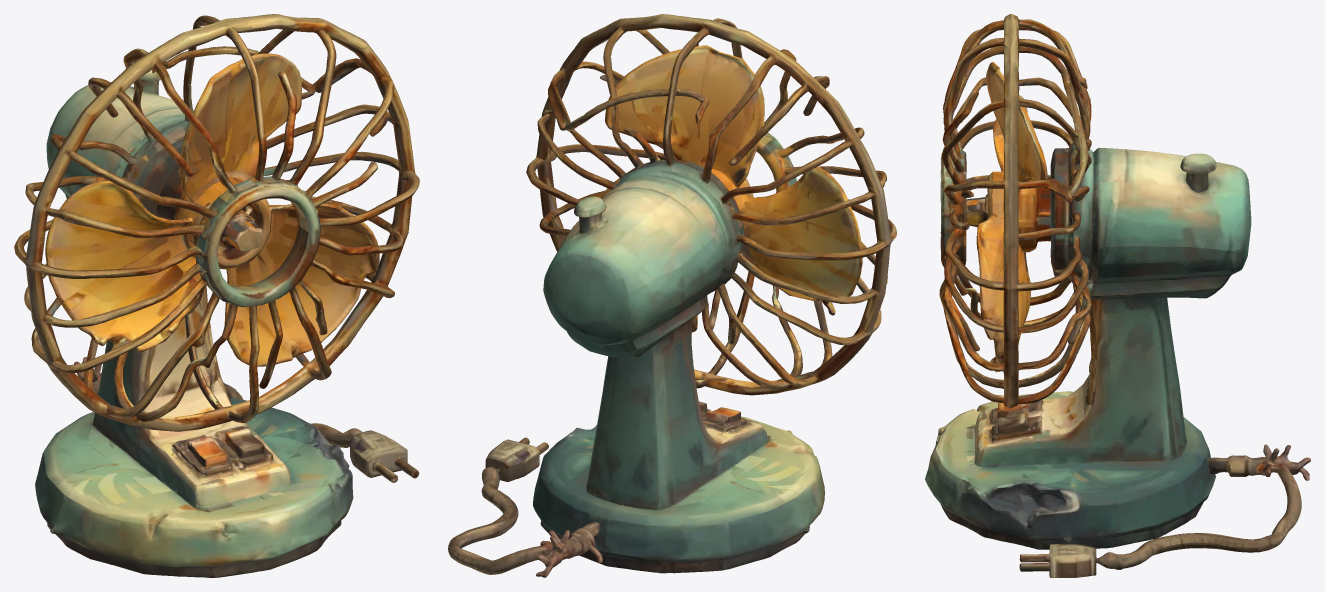
File: fan-broken.glb
The picture shows the model from 3 angles, left to right: view 1: azimuth 30°, elevation 25°; view 2: azimuth 150°, elevation 25°; view 3: azimuth 270°, elevation 25°; orthographic projection. The views are drawn at different scales.
Visible parts, largest first — view 1: geometry_0; view 2: geometry_0; view 3: geometry_0.
Boxes of the visible parts, x1,y1,x2,y2 form: geometry_0: (14, 14, 419, 577); geometry_0: (448, 14, 896, 577); geometry_0: (925, 14, 1310, 577).
Size of the model in its own units: 0.3655 by 0.45 by 0.3412.
1 material, 1 textured.
